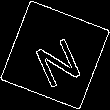N_NW: (26, 24, 84, 86)
